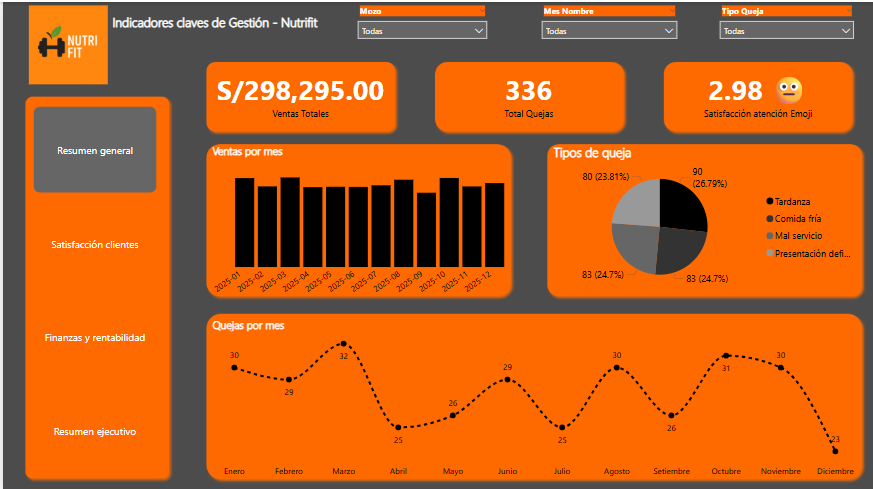

What the dashboard file says about the page in this screenshot:
{"tool":"powerbi","page":{"name":"Resumen general","canvas":[1280,720],"ordinal":0},"visuals":[{"type":"textbox","box":[155.8,11.8,340.9,50],"z":0},{"type":"card","fields":{"Values":["Medidas_restaurantes.Ventas Totales"]},"box":[302.5,91.2,268.8,90],"z":1000},{"type":"card","fields":{"Values":["Medidas_restaurantes.Total Quejas"]},"box":[650,91.2,246.2,90],"z":2000},{"type":"card","fields":{"Values":["Medidas_restaurantes.Satisfacción atención Emoji"]},"box":[980,91.2,258.8,90],"z":3000},{"type":"columnChart","title":"Ventas por mes","fields":{"Category":["Calendario.Año-Mes"],"Y":["Medidas_restaurantes.Ventas Totales"]},"box":[302.5,207.5,452.5,241.2],"z":4000},{"type":"pieChart","title":"Tipos de queja","fields":{"Y":["Medidas_restaurantes.Total Quejas"],"Category":["Quejas clientes.Tipo Queja"]},"box":[803.8,207.5,456.2,221.2],"z":5000},{"type":"lineChart","title":"Quejas por mes","fields":{"Y":["Medidas_restaurantes.Total Quejas"],"Category":["Calendario.Mes Nombre"]},"box":[302.5,462.5,957.5,245],"z":6000},{"type":"slicer","fields":{"Values":["Mozos.Mozo"]},"box":[511.3,0,210.1,61.7],"z":7000},{"type":"slicer","fields":{"Values":["Calendario.Mes Nombre"]},"box":[781.7,0,218.9,69.1],"z":8000},{"type":"slicer","fields":{"Values":["Quejas clientes.Tipo Queja"]},"box":[1043.3,0,217.5,69.1],"z":9000},{"type":"image","box":[25,0,142.5,126.4],"z":10000},{"type":"pageNavigator","box":[44.1,152.8,182.2,542.2],"z":11000}]}

Visuals, with their boxes in screenshot pixels (x1, y1, x2, y2), scaled from the page's 1280x720 canvas onto the 873x489 screenshot:
textbox: 106 8 339 42
card - Medidas_restaurantes.Ventas Totales: 206 62 390 123
card - Medidas_restaurantes.Total Quejas: 443 62 611 123
card - Medidas_restaurantes.Satisfacción atención Emoji: 668 62 845 123
"Ventas por mes" columnChart: 206 141 515 305
"Tipos de queja" pieChart: 548 141 859 291
"Quejas por mes" lineChart: 206 314 859 481
slicer - Mozos.Mozo: 349 0 492 42
slicer - Calendario.Mes Nombre: 533 0 682 47
slicer - Quejas clientes.Tipo Queja: 712 0 860 47
image: 17 0 114 86
pageNavigator: 30 104 154 472
